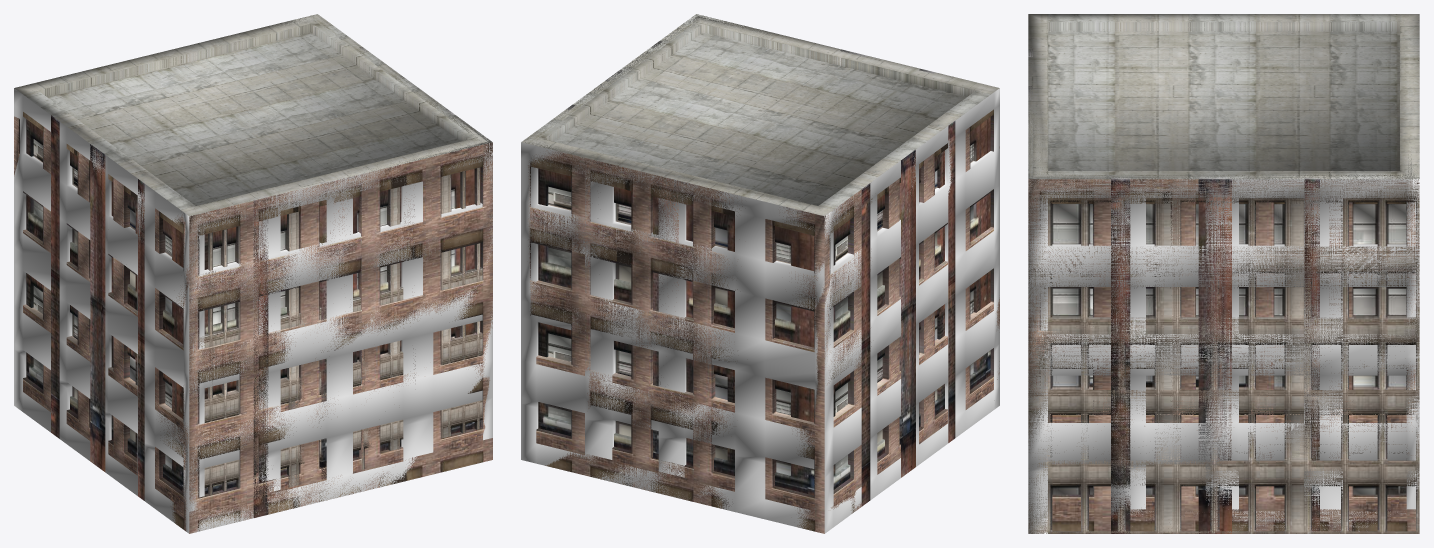
File: street-at-sunset.glb
3 renders of one model, left to right at view 1: azimuth 30°, elevation 25°; view 2: azimuth 150°, elevation 25°; view 3: azimuth 270°, elevation 25°, orthographic. The views are drawn at different scales.
Parts seen in each view (by area): view 1: SunsetBlock3, SunsetBlock2, SunsetBlock1, SunsetBlock4; view 2: SunsetBlock3, SunsetBlock2, SunsetBlock1; view 3: SunsetBlock3, SunsetBlock4, SunsetBlock2, SunsetBlock1.
Part boxes in pixels (x1=…): SunsetBlock3: x1=14, y1=15, x2=492, y2=533; SunsetBlock2: x1=14, y1=14, x2=492, y2=533; SunsetBlock1: x1=26, y1=47, x2=487, y2=517; SunsetBlock4: x1=189, y1=167, x2=482, y2=494; SunsetBlock3: x1=521, y1=14, x2=999, y2=533; SunsetBlock2: x1=521, y1=14, x2=999, y2=533; SunsetBlock1: x1=538, y1=16, x2=990, y2=506; SunsetBlock3: x1=1028, y1=14, x2=1419, y2=533; SunsetBlock4: x1=1028, y1=179, x2=1419, y2=533; SunsetBlock2: x1=1028, y1=115, x2=1419, y2=533; SunsetBlock1: x1=1028, y1=49, x2=1319, y2=533.
Size of the model in its own units: 1 by 1 by 1.
Materials: 10 (9 with a texture image).
